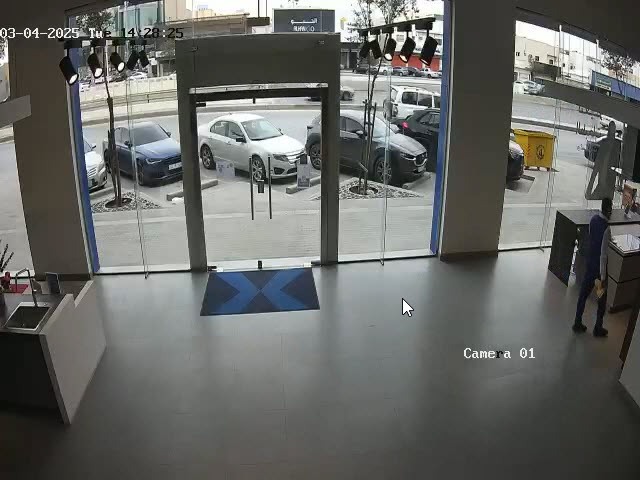employee: (572, 198, 613, 337)
